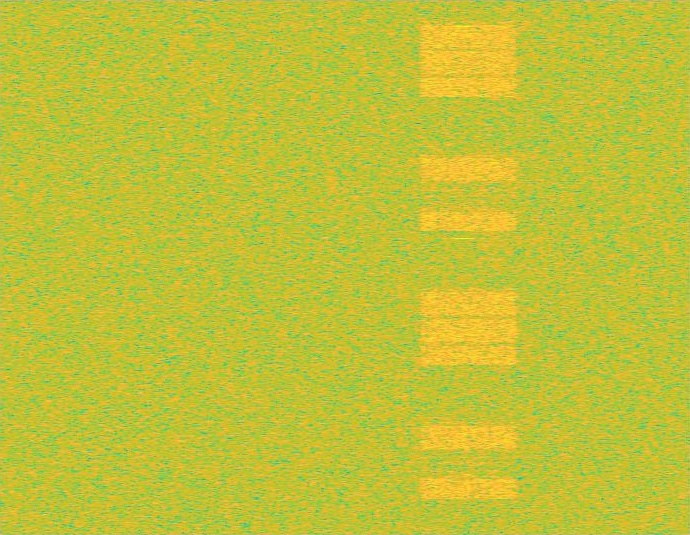LTE: (417, 0, 521, 534)
Radar: (456, 0, 470, 534)
